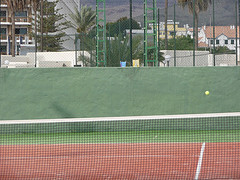tennis ball: (203, 89, 210, 96)
